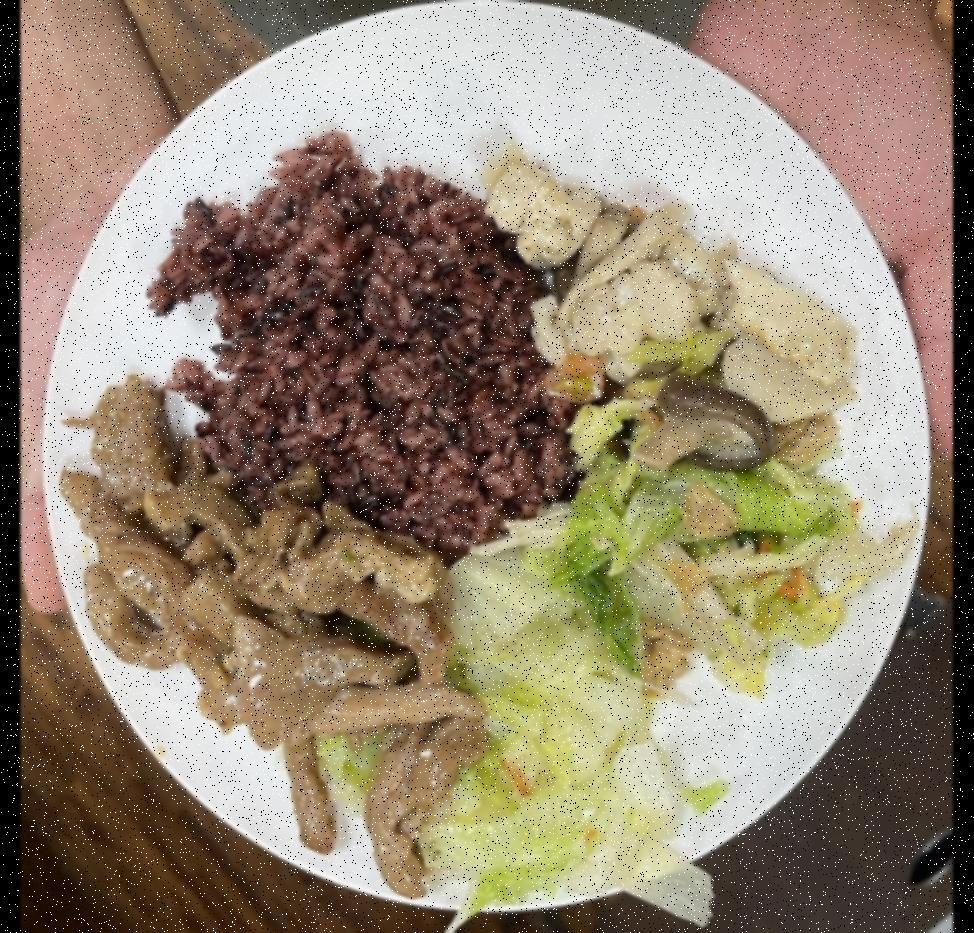plate: (34, 0, 939, 933)
pork with scrambled eggs: (65, 396, 455, 897)
purple rice: (159, 144, 559, 531)
side dish: (425, 465, 880, 904), (492, 158, 859, 468)
